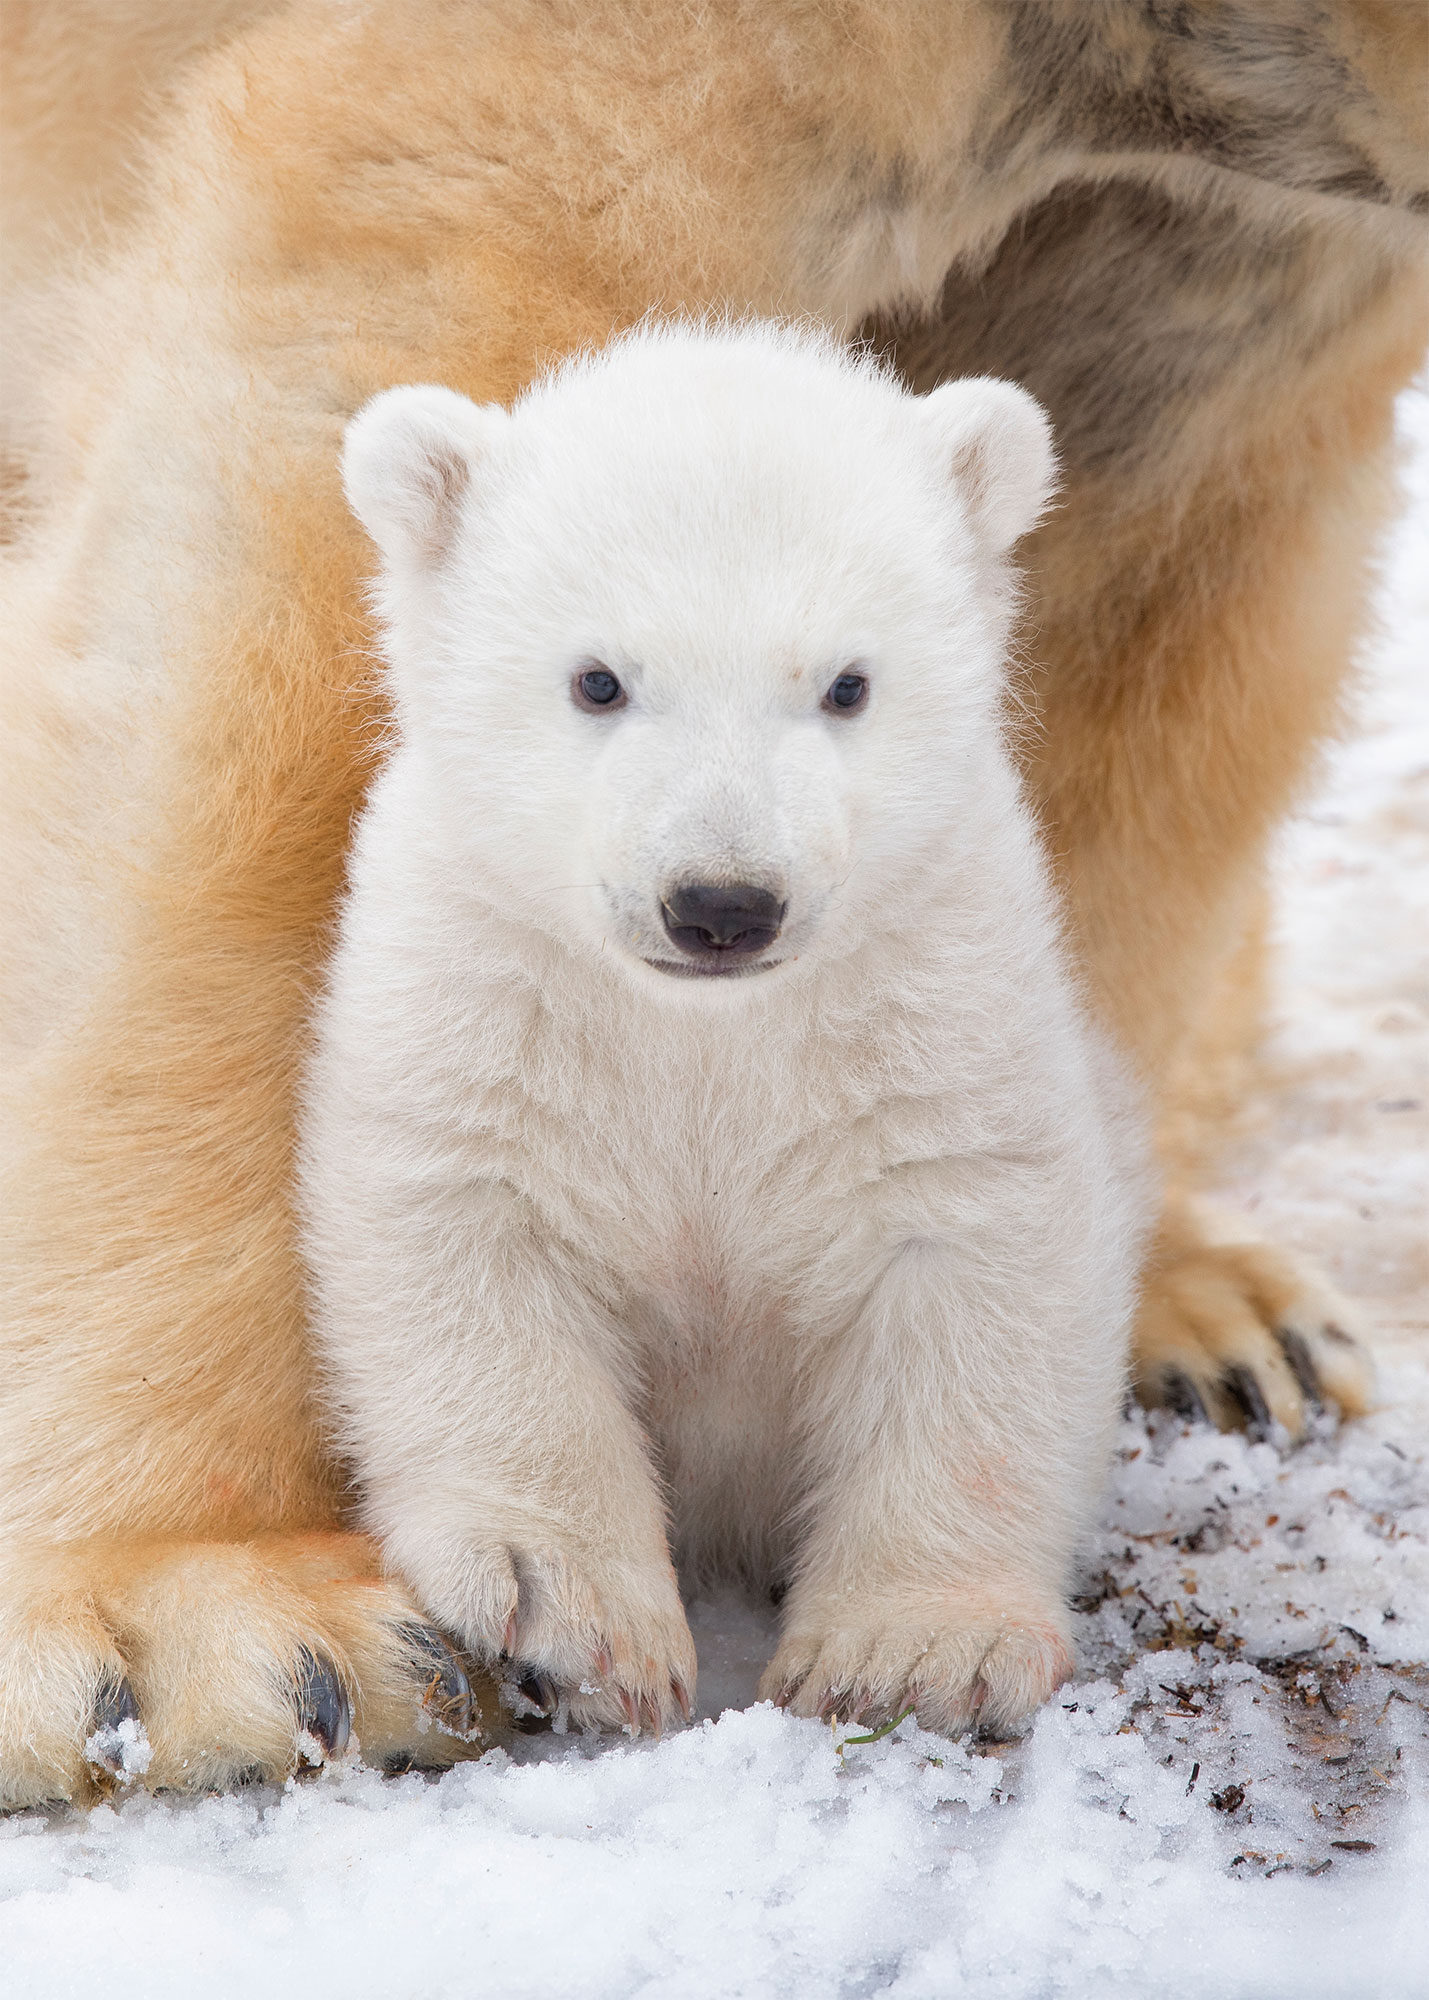Polar Bear: (240, 265, 1267, 1940)
